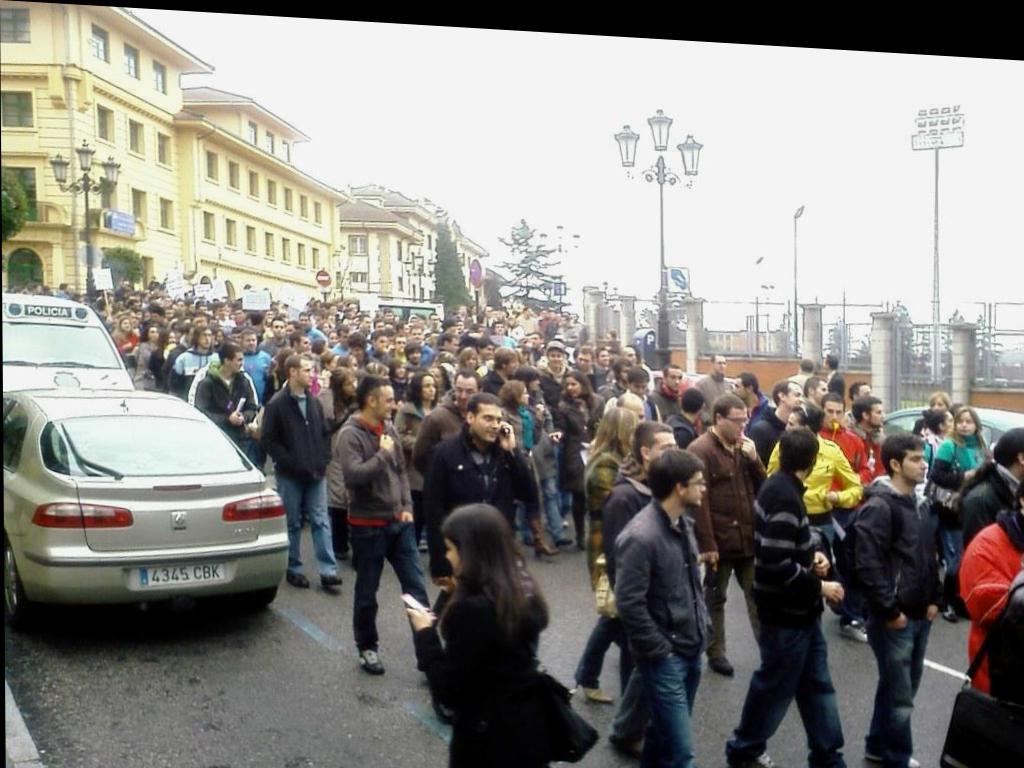License_Plate: (138, 558, 225, 594)
